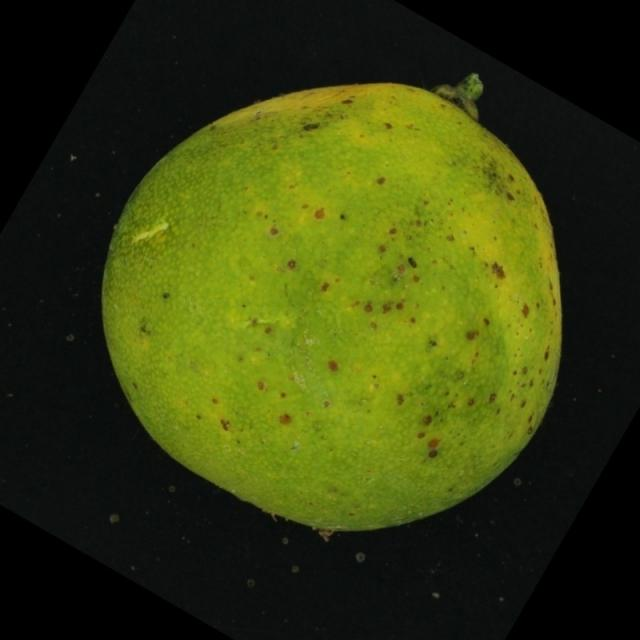grenning: (56, 38, 592, 566)
